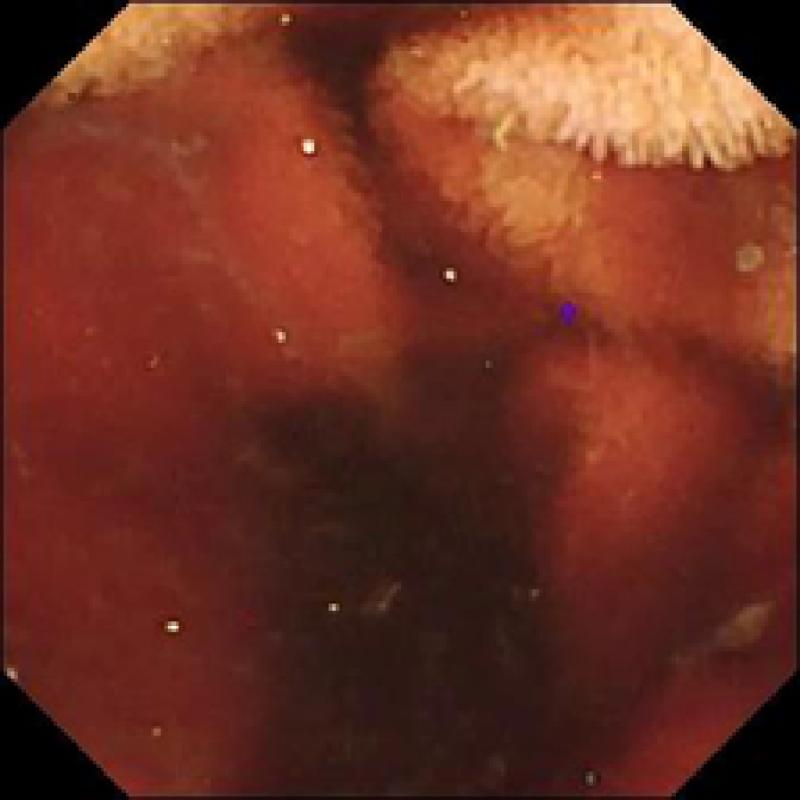bleeding: (0, 3, 789, 800)
